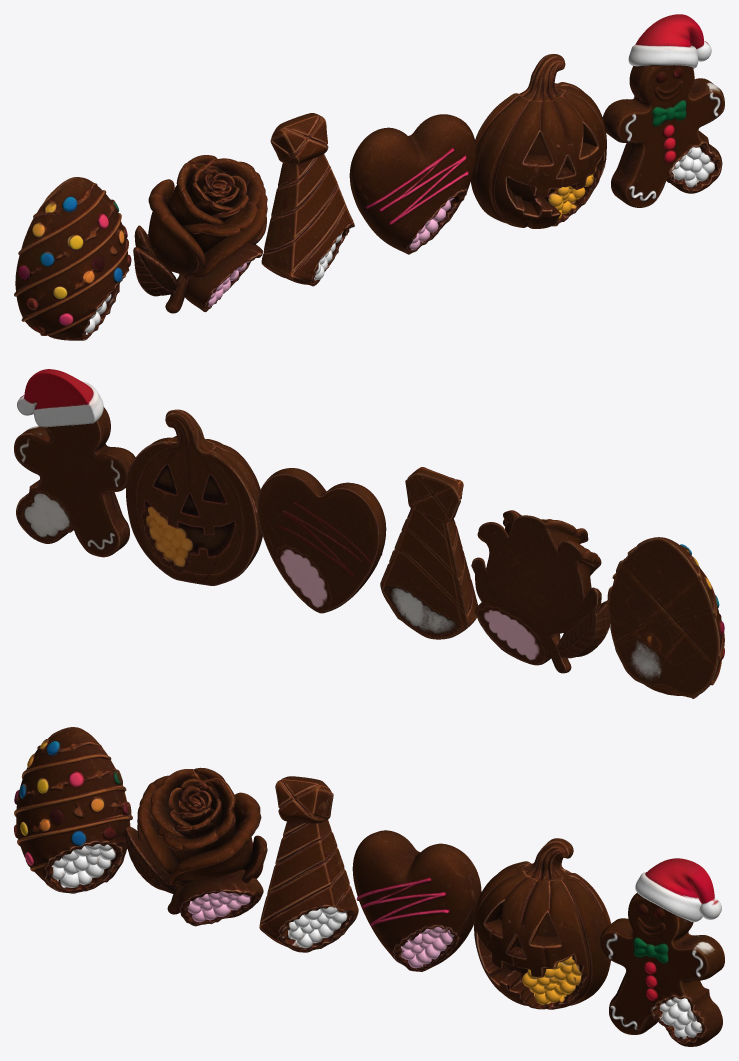
Rendered from chocolatinas.glb.
3 views of the same model, one above another, from view 1: azimuth 30°, elevation 25°; view 2: azimuth 150°, elevation 25°; view 3: azimuth 330°, elevation 25° (orthographic).
Size of the model in its own units: 1.9 by 0.4558 by 0.1578.
Materials: 1 (1 with a texture image).
